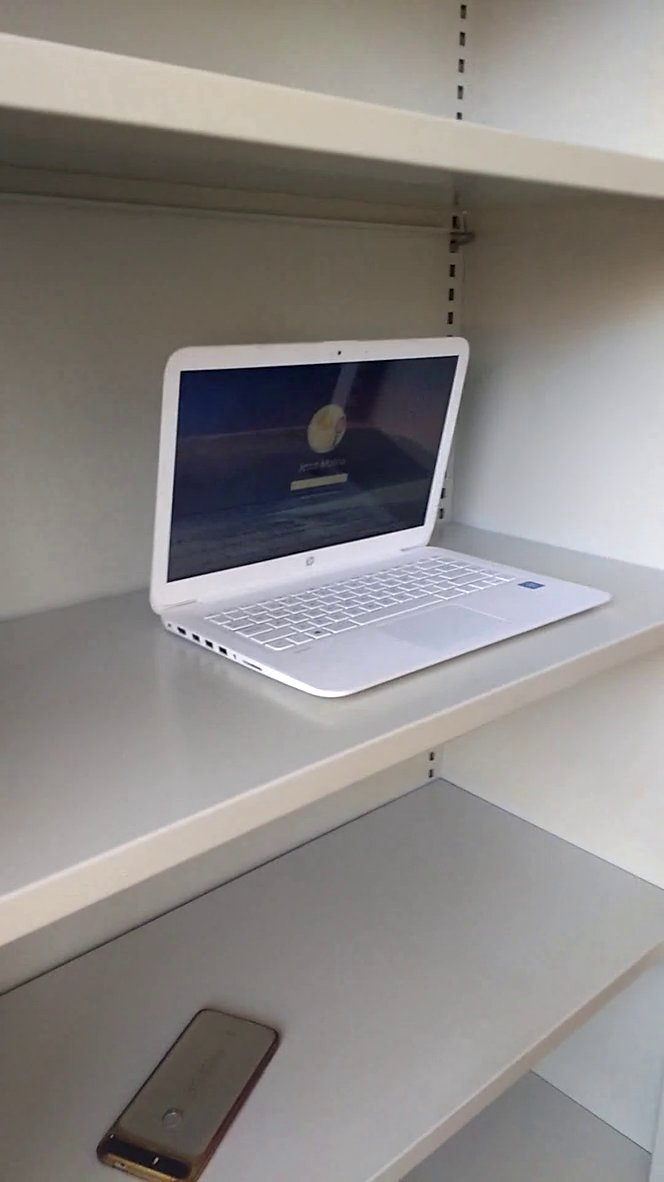laptop: (127, 313, 634, 719)
phone: (77, 990, 324, 1182)
